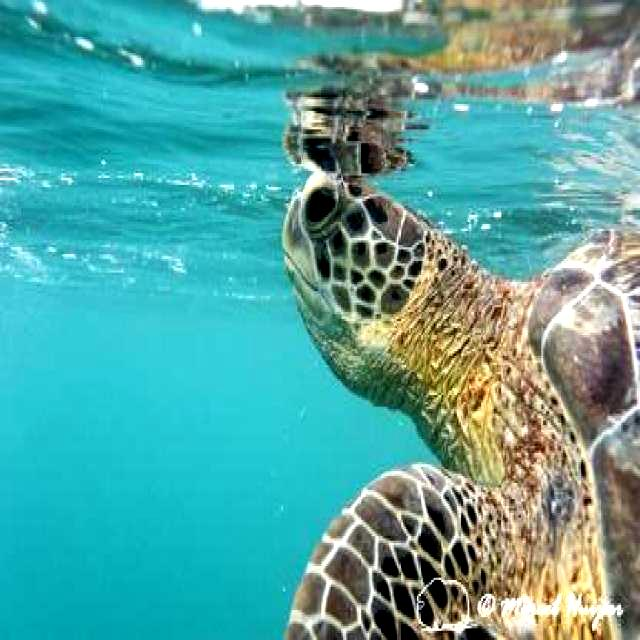Sea turtle: (274, 162, 640, 640)
